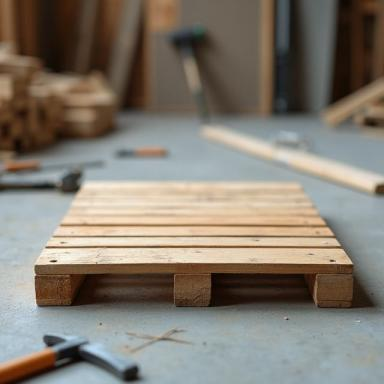pallet: (34, 179, 354, 308)
